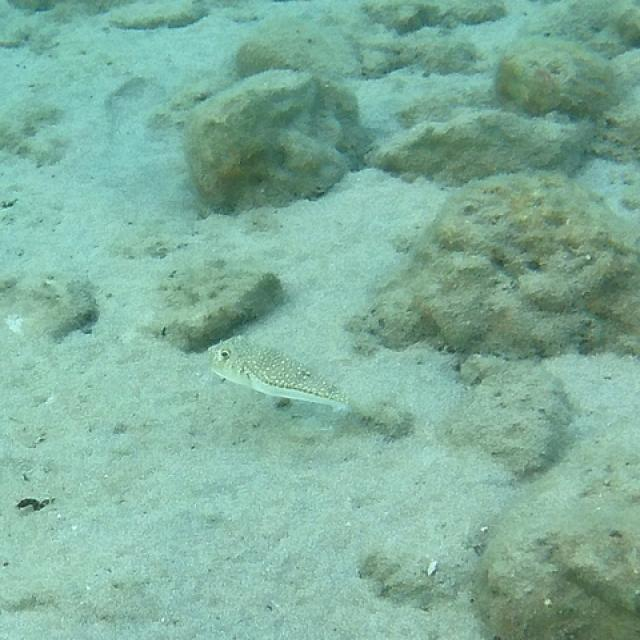Balik: (210, 337, 349, 408)
